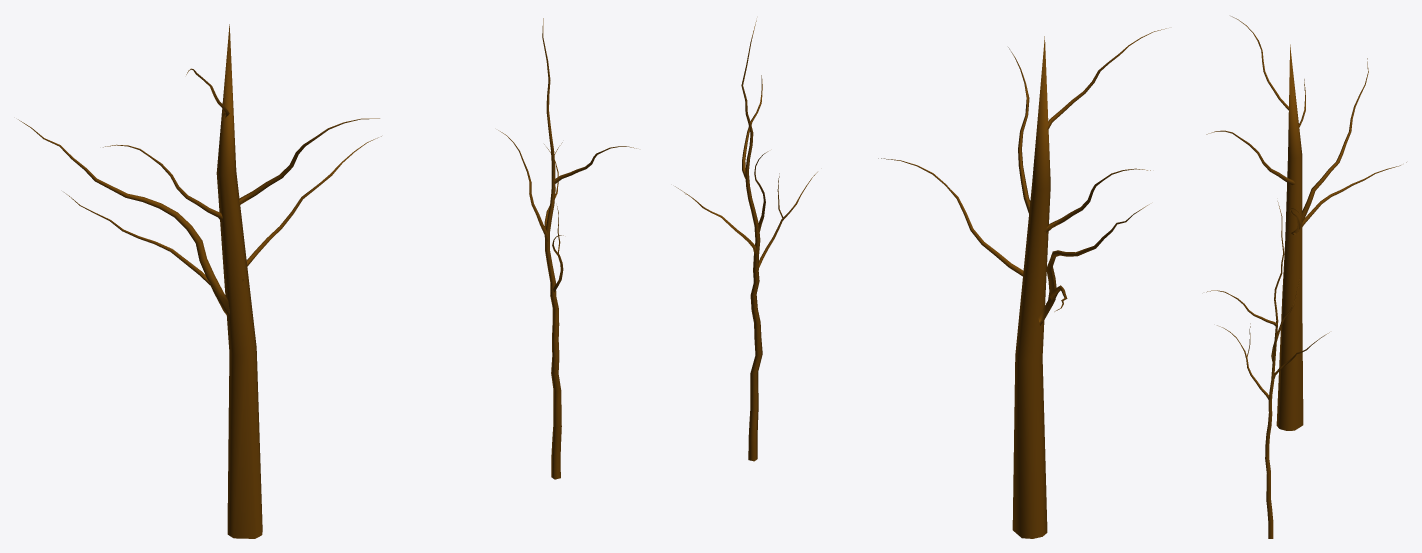
The model's file is TreesNoLeaves.fbx.
The picture shows the model from 3 angles, left to right: view 1: azimuth 30°, elevation 25°; view 2: azimuth 150°, elevation 25°; view 3: azimuth 270°, elevation 25°; orthographic projection. The views are drawn at different scales.
Parts seen in each view (by area): view 1: BigTree1, SmallTree1; view 2: BigTree1, SmallTree1; view 3: BigTree1, SmallTree1.
Part boxes in pixels (x1=…): BigTree1: x1=18, y1=24, x2=381, y2=538; SmallTree1: x1=498, y1=18, x2=636, y2=479; BigTree1: x1=878, y1=28, x2=1166, y2=538; SmallTree1: x1=675, y1=20, x2=817, y2=461; BigTree1: x1=1206, y1=16, x2=1406, y2=430; SmallTree1: x1=1206, y1=201, x2=1329, y2=538.
Size of the model in its own units: 33.17 by 31.67 by 15.54.
